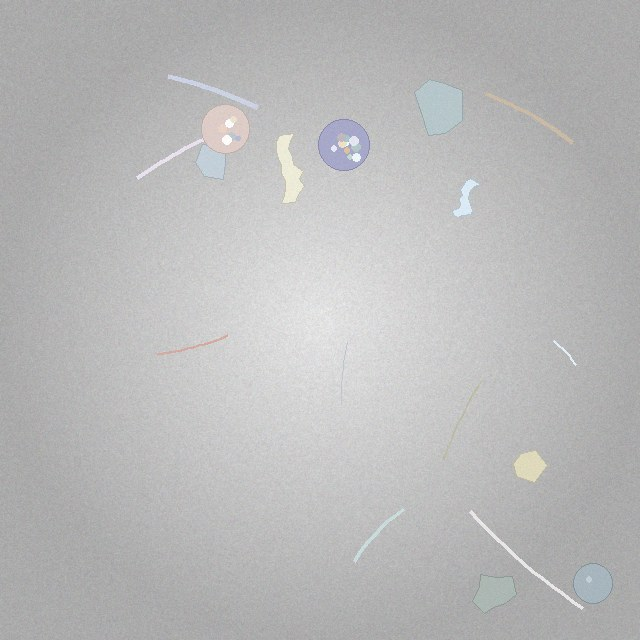fiber: (466, 508, 586, 612), (481, 90, 577, 147), (133, 131, 215, 183), (163, 71, 263, 113), (441, 379, 483, 462), (351, 507, 406, 564), (154, 332, 231, 358), (550, 338, 578, 368), (339, 340, 350, 407)
film: (276, 134, 305, 204), (453, 179, 480, 218)
foam: (319, 120, 369, 170), (201, 105, 249, 153)
fragment: (415, 79, 463, 135), (473, 574, 516, 614), (513, 450, 547, 483), (196, 144, 226, 180)
pellet: (573, 563, 613, 603)
